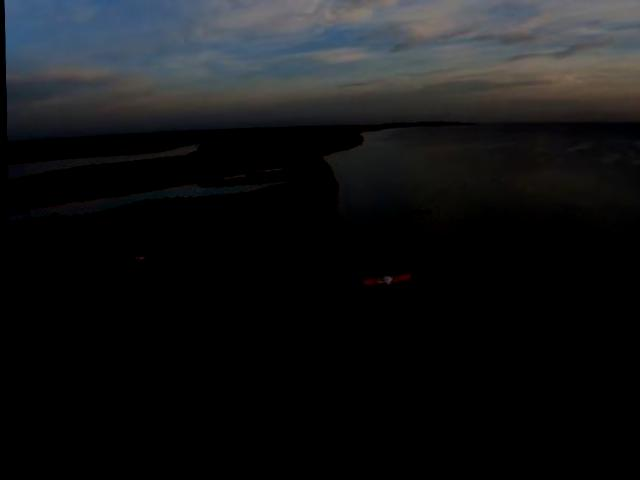uav: (356, 275, 414, 302)
